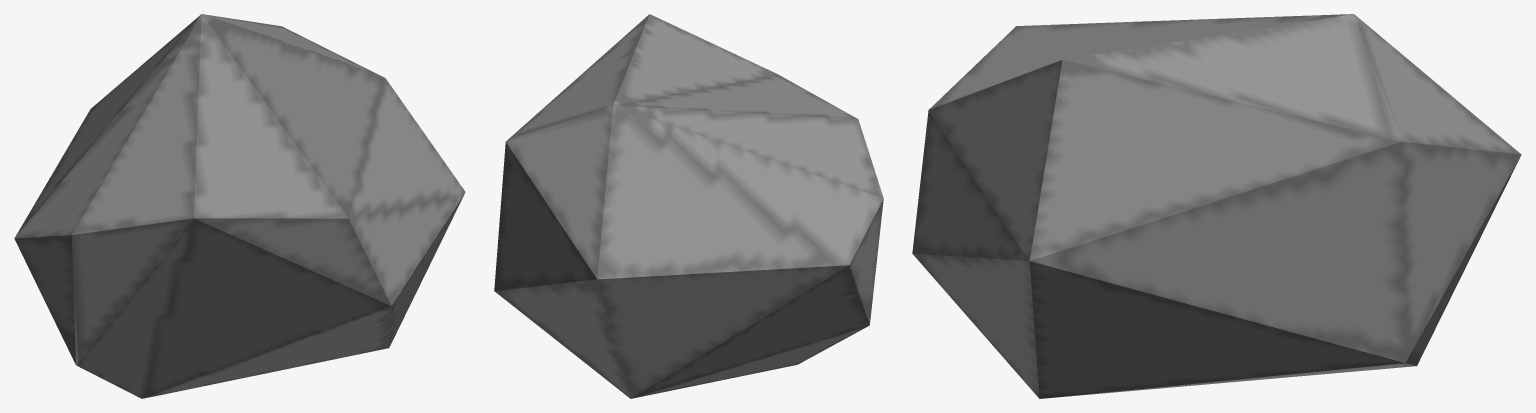
File: Roca02_Textured.FBX
3 renders of one model, left to right at view 1: azimuth 30°, elevation 25°; view 2: azimuth 150°, elevation 25°; view 3: azimuth 270°, elevation 25°, orthographic. The views are drawn at different scales.
Visible parts, largest first — view 1: Roca02; view 2: Roca02; view 3: Roca02.
Boxes of the visible parts, box(x1,y1,x2,y2) form: Roca02: box(14, 14, 465, 398); Roca02: box(494, 14, 883, 398); Roca02: box(912, 14, 1521, 398).
Bounding box in the file's own units: 374 × 298 × 418.
